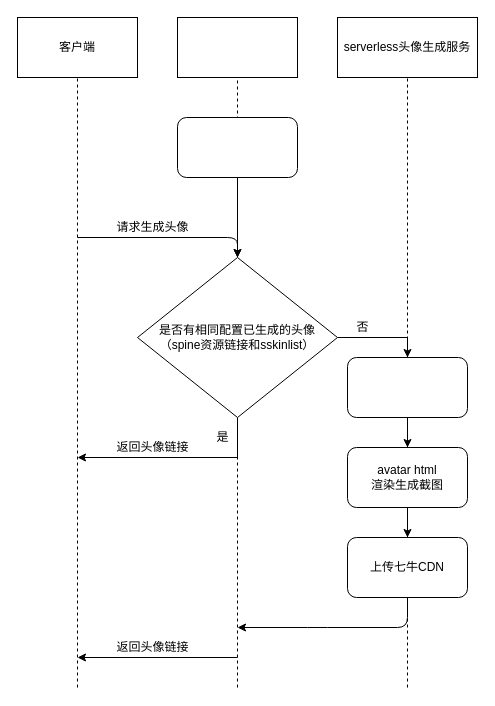
This 495x706 diagram has some shape labels left out. Here are the shapes that lost their labels. From the top down, the centre of each, then its label:
(x=237, y=47): 服务端
(x=237, y=147): 装扮过期时，自动生成头像
(x=407, y=387): puppeteer function
